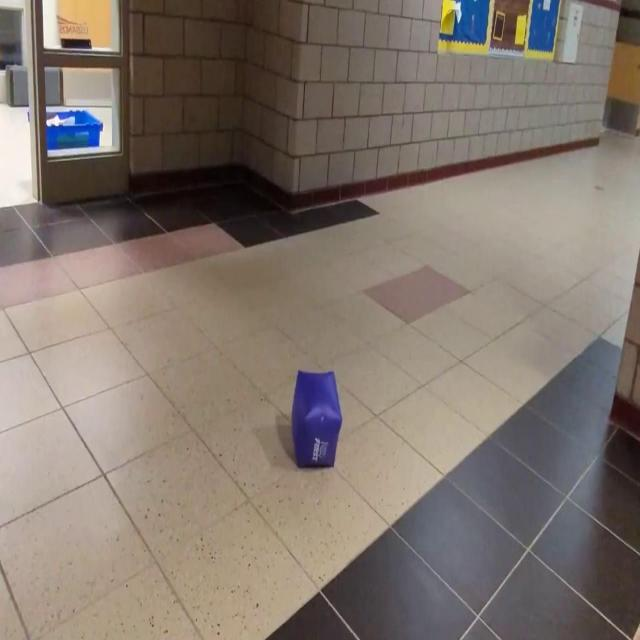frc_cube: (290, 369, 342, 468)
